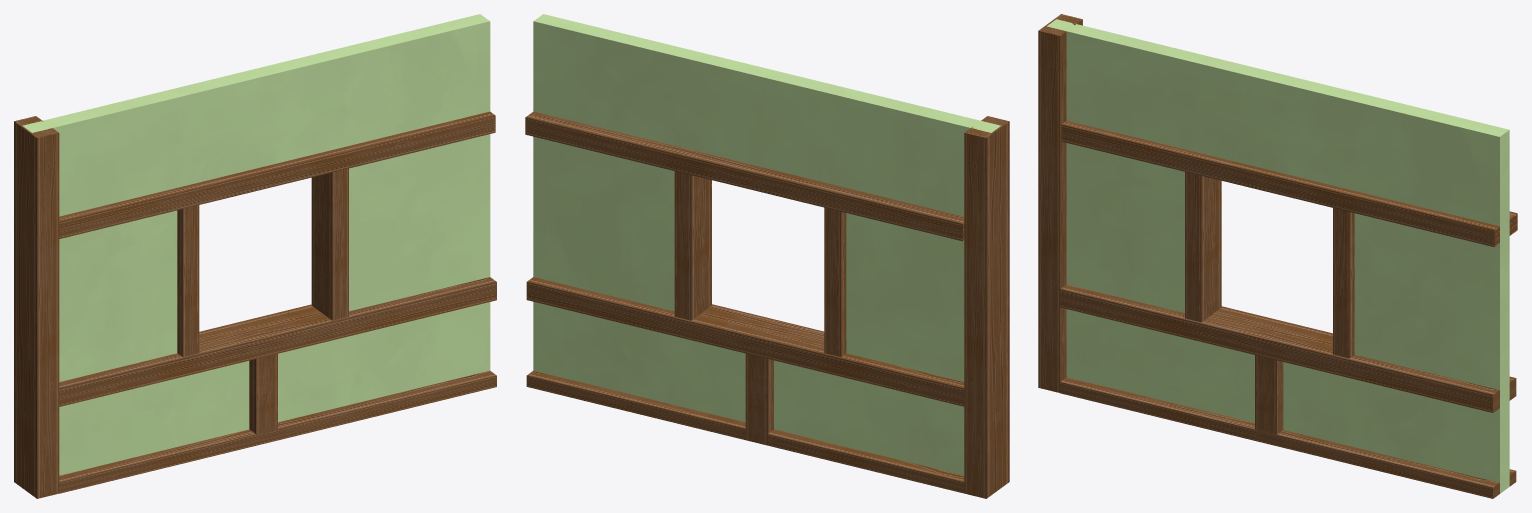
The model's file is SM_Window_Wall_02_wmint.glb.
3 renders of one model, left to right at view 1: azimuth 30°, elevation 25°; view 2: azimuth 150°, elevation 25°; view 3: azimuth 330°, elevation 25°, orthographic.
Visible parts, largest first — view 1: SM_Window_Wall_02; view 2: SM_Window_Wall_02; view 3: SM_Window_Wall_02.
Part boxes in pixels (x1=…): SM_Window_Wall_02: x1=14, y1=14, x2=496, y2=498; SM_Window_Wall_02: x1=525, y1=14, x2=1009, y2=498; SM_Window_Wall_02: x1=1038, y1=14, x2=1517, y2=498.
Size of the model in its own units: 4 by 3 by 0.3736.
2 materials, 2 textured.
